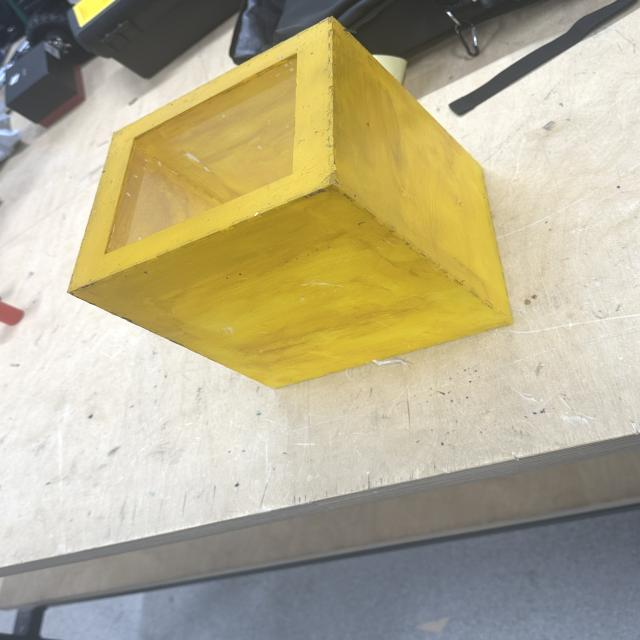yellow_bin: (66, 14, 514, 390)
